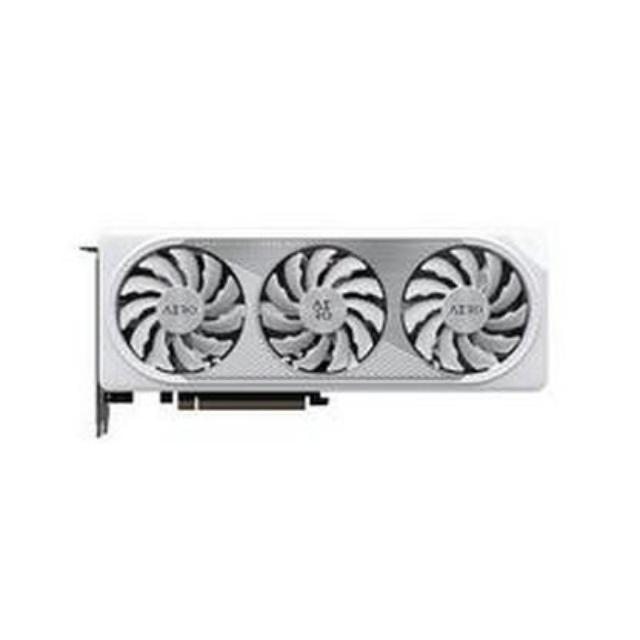GPU: (87, 233, 550, 413)
